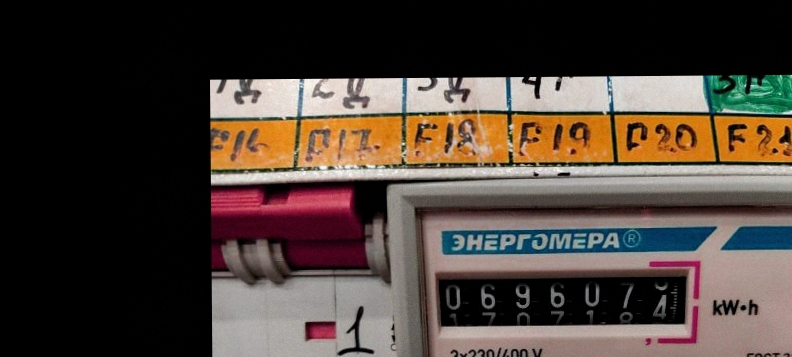0: (583, 277, 602, 308), (444, 282, 462, 310)
4: (652, 292, 668, 320)
6: (548, 280, 567, 309), (479, 280, 498, 308)
7: (619, 279, 636, 309)
9: (514, 281, 531, 309)
screen: (422, 252, 708, 344)
